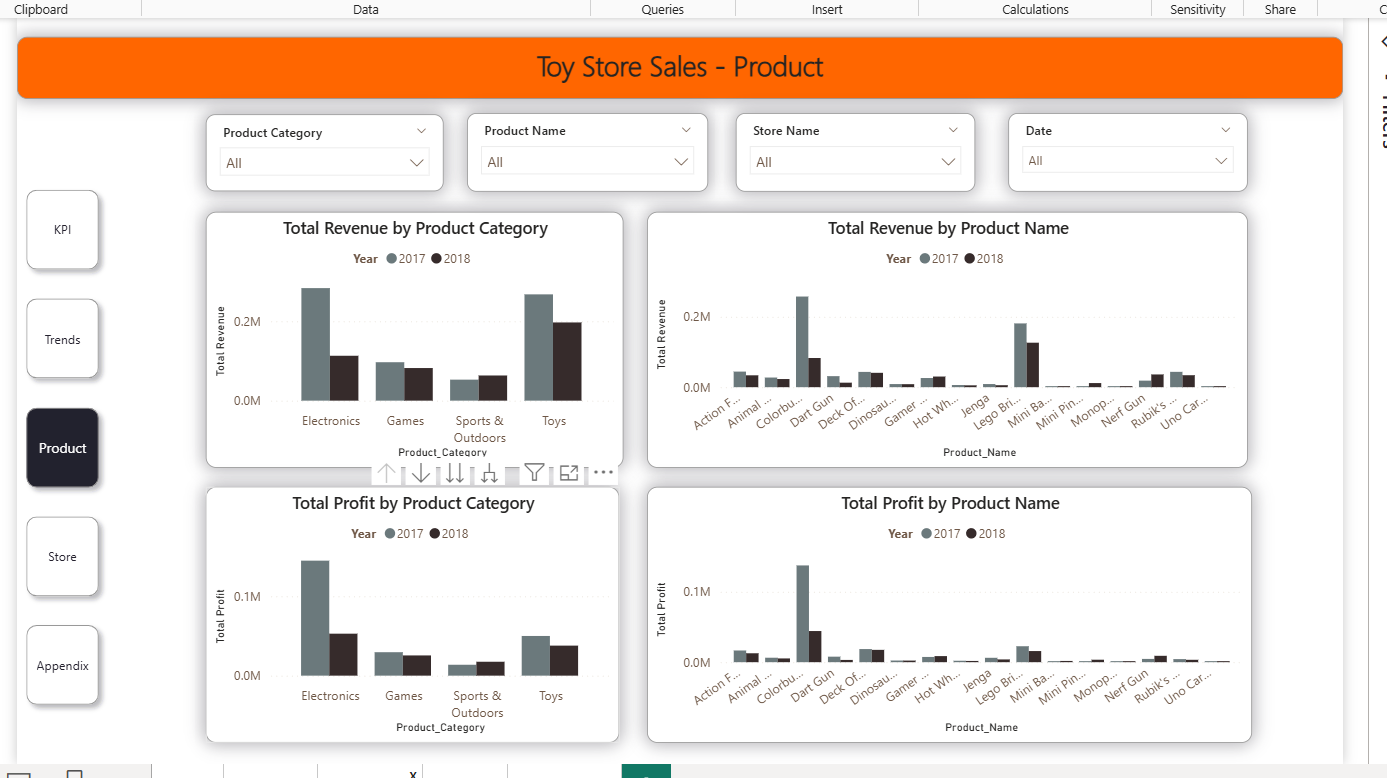

The page's visual inventory and layout, read from the dashboard file:
{"tool":"powerbi","page":{"name":"Product ","canvas":[1280,720],"ordinal":2},"visuals":[{"type":"textbox","box":[0,17.9,1280.1,60.2],"z":0},{"type":"slicer","fields":{"Values":["Dim_products.Product_Category"]},"box":[182.2,93.3,229.8,74.4],"z":1000,"group":"g1"},{"type":"clusteredColumnChart","title":"Total Revenue by Product Category","fields":{"Category":["Dim_products.Product_Category","Fact_sales.Date.Variation.Date Hierarchy.Year","Fact_sales.Date.Variation.Date Hierarchy.Quarter","Fact_sales.Date.Variation.Date Hierarchy.Month","Fact_sales.Date.Variation.Date Hierarchy.Day"],"Y":["DaxMeasures.Total Revenue"],"Series":["Fact_sales.Date.Variation.Date Hierarchy.Year"]},"box":[182.2,187,403,247.3],"z":1000},{"type":"slicer","fields":{"Values":["Dim_products.Product_Name"]},"box":[433.8,91.7,233.1,75.6],"z":2000,"group":"g1"},{"type":"clusteredColumnChart","title":"Total Revenue by Product Name","fields":{"Series":["Fact_sales.Date.Variation.Date Hierarchy.Year"],"Category":["Dim_products.Product_Name"],"Y":["DaxMeasures.Total Revenue"]},"box":[608,187,580.3,247.3],"z":2000},{"type":"slicer","fields":{"Values":["Dim_store.Store_Name"]},"box":[693.7,91.7,231.4,75.6],"z":3000,"group":"g1"},{"type":"clusteredColumnChart","title":"Total Profit by Product Category","fields":{"Category":["Dim_products.Product_Category","Fact_sales.Date.Variation.Date Hierarchy.Year","Fact_sales.Date.Variation.Date Hierarchy.Quarter","Fact_sales.Date.Variation.Date Hierarchy.Month","Fact_sales.Date.Variation.Date Hierarchy.Day"],"Y":["DaxMeasures.Total Profit"],"Series":["Fact_sales.Date.Variation.Date Hierarchy.Year"]},"box":[182.2,452.4,399.3,247.3],"z":3000},{"type":"slicer","fields":{"Values":["Fact_sales.Date"]},"box":[957,91.7,231.4,75.6],"z":4000,"group":"g1"},{"type":"clusteredColumnChart","title":"Total Profit by Product Name","fields":{"Series":["Fact_sales.Date.Variation.Date Hierarchy.Year"],"Category":["Dim_products.Product_Name"],"Y":["DaxMeasures.Total Profit"]},"box":[608,452.4,583.9,247.3],"z":4000},{"type":"group","id":"g1","title":"Group 2","box":[182.2,91.7,1006.2,76],"z":5000},{"type":"pageNavigator","box":[0,156.8,88.1,517.6],"z":6000}]}

Visuals, with their boxes on the page's 1280x720 design canvas (x1, y1, x2, y2). These are canvas units, not pixel positions in the 1387x778 screenshot, which may show the page scaled, cropped or inside an application window:
textbox: box=[0, 18, 1280, 78]
slicer - Dim_products.Product_Category: box=[182, 93, 412, 168]
"Total Revenue by Product Category" clusteredColumnChart: box=[182, 187, 585, 434]
slicer - Dim_products.Product_Name: box=[434, 92, 667, 167]
"Total Revenue by Product Name" clusteredColumnChart: box=[608, 187, 1188, 434]
slicer - Dim_store.Store_Name: box=[694, 92, 925, 167]
"Total Profit by Product Category" clusteredColumnChart: box=[182, 452, 582, 700]
slicer - Fact_sales.Date: box=[957, 92, 1188, 167]
"Total Profit by Product Name" clusteredColumnChart: box=[608, 452, 1192, 700]
"Group 2" group: box=[182, 92, 1188, 168]
pageNavigator: box=[0, 157, 88, 674]
